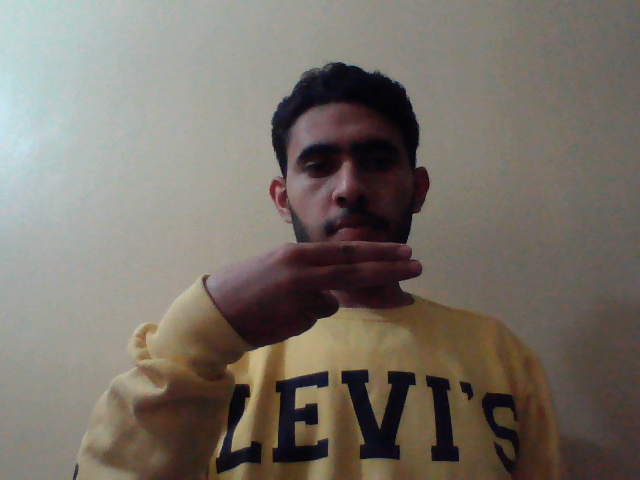H: (179, 239, 433, 358)
